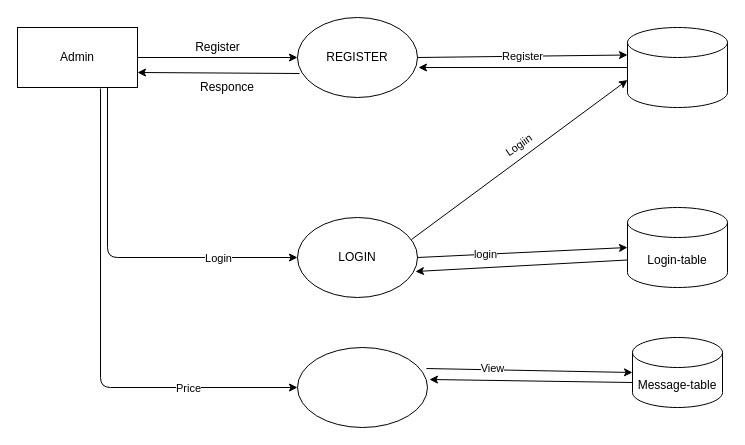
Some shapes in this 745 by 445 pixel diagram are drawn without their labels. The centre of each missing label's shape, as x and y in pixels:
Amazone Price Prediction: [362,387]
Register-table: [677,67]
